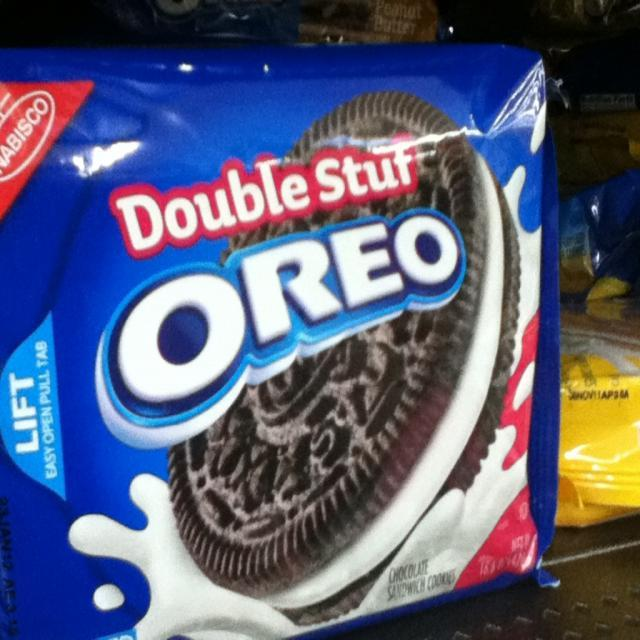Cookie: (163, 82, 523, 628), (162, 90, 519, 624)
